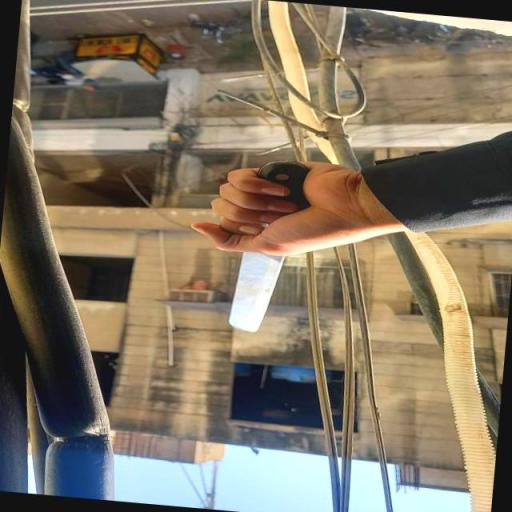knife: (232, 156, 312, 336)
